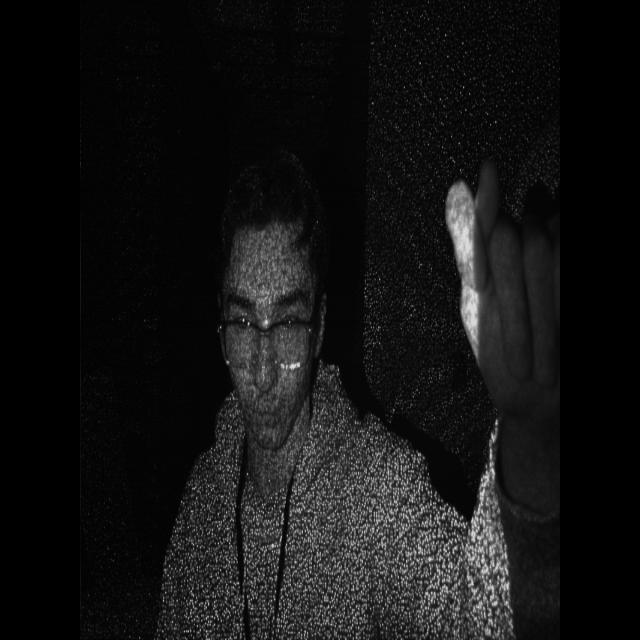T: (435, 136, 597, 435)
